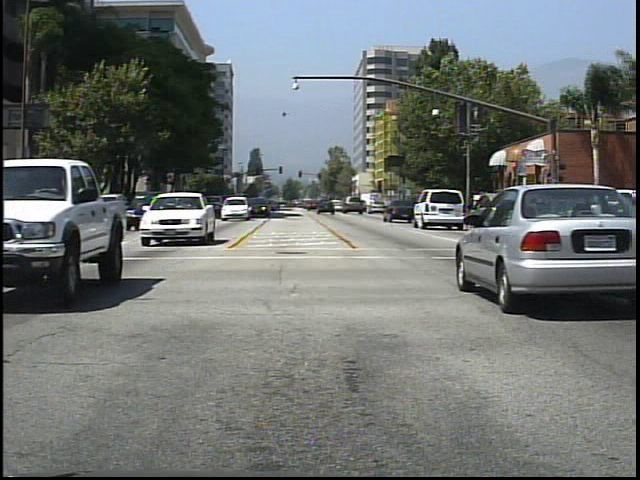person: (493, 190, 512, 228), (454, 193, 472, 228)
